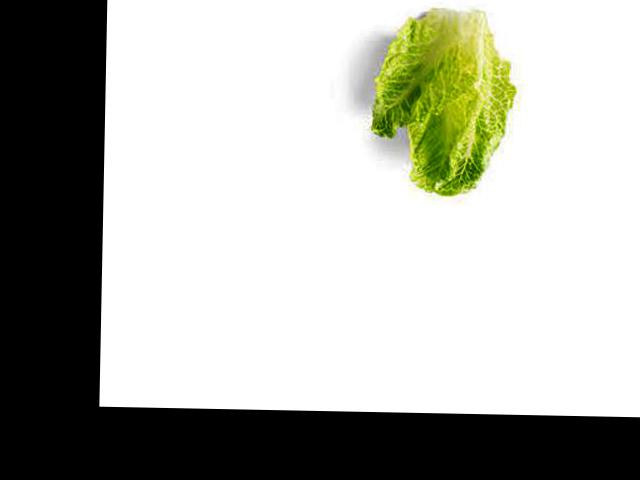lettuce: (374, 40, 518, 200)
